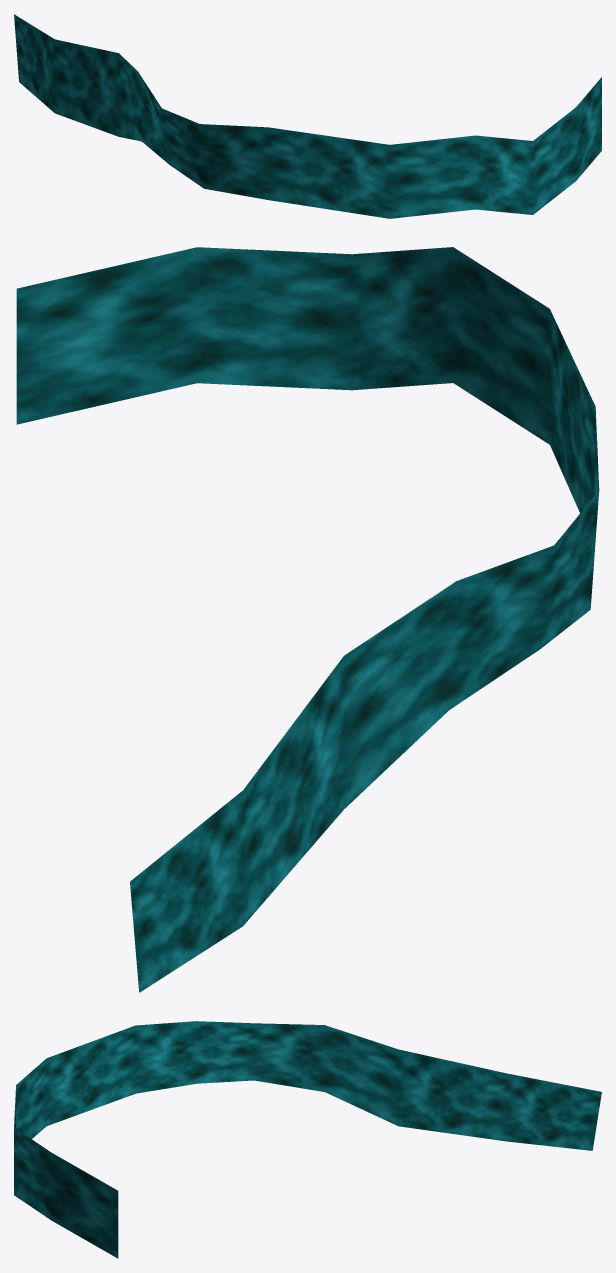
File: MIRKWOOD_FOGH01.fbx
The picture shows the model from 3 angles, top to bottom: view 1: azimuth 30°, elevation 25°; view 2: azimuth 150°, elevation 25°; view 3: azimuth 270°, elevation 25°; orthographic projection. The views are drawn at different scales.
Visible parts, largest first — view 1: MIRKWOOD_FOGH01; view 2: MIRKWOOD_FOGH01; view 3: MIRKWOOD_FOGH01.
Part boxes in pixels (x1,y1,x2,y2): MIRKWOOD_FOGH01: [14, 14, 601, 218]; MIRKWOOD_FOGH01: [16, 247, 599, 992]; MIRKWOOD_FOGH01: [14, 1021, 601, 1258].
Bounding box in the file's own units: 497894 × 183676 × 753471.
1 material, 1 textured.
